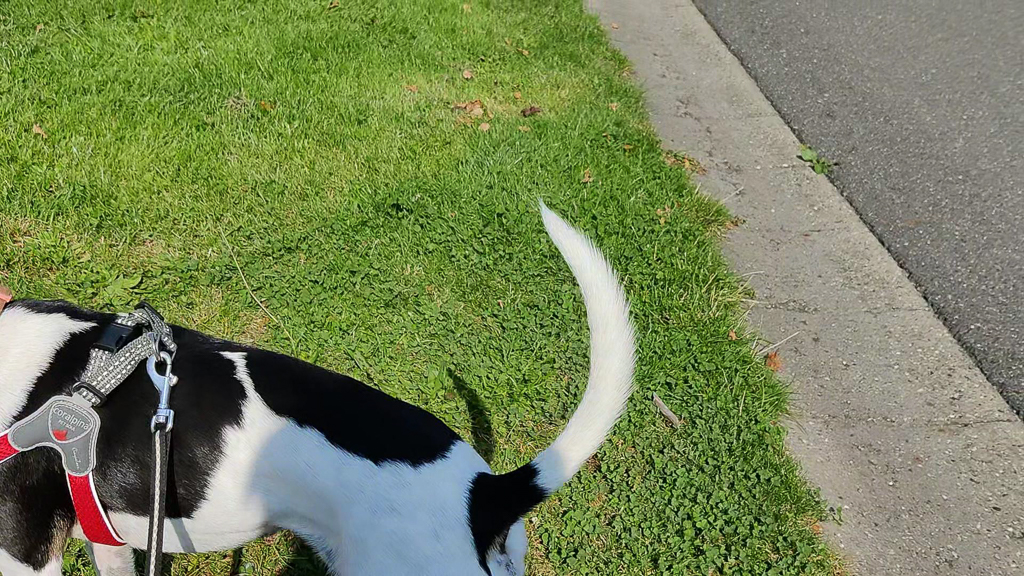Dog: (0, 192, 651, 576)
